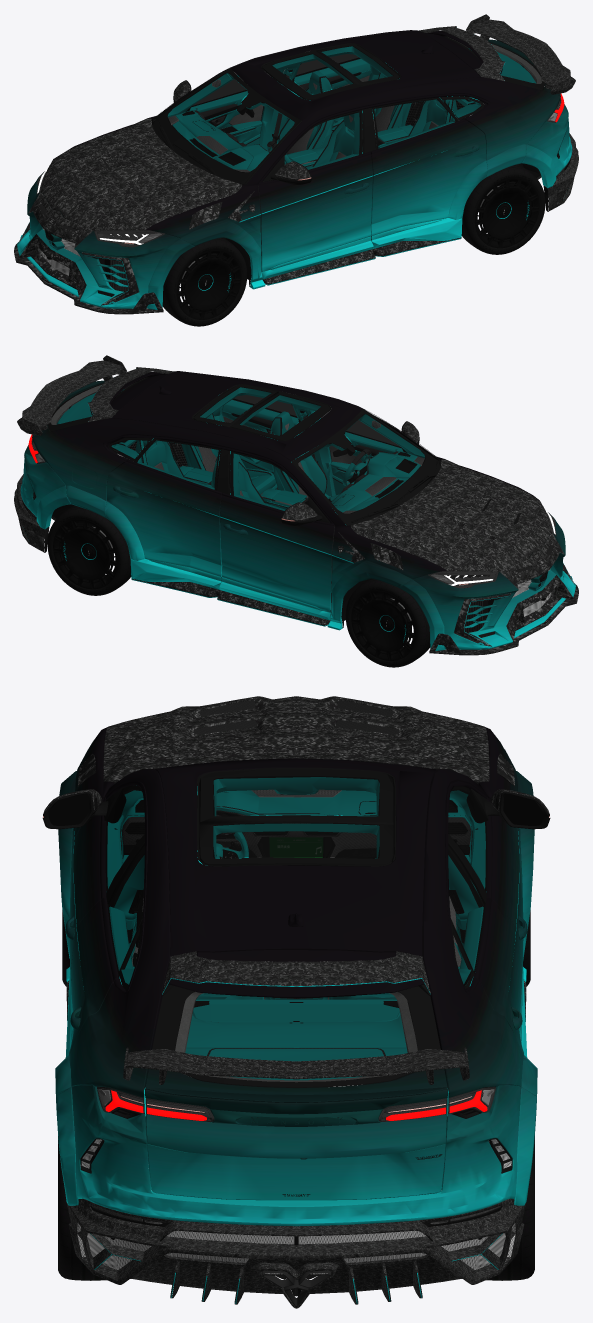
The model's file is urus.glb.
3 renders of one model, top to bottom at view 1: azimuth 30°, elevation 25°; view 2: azimuth 150°, elevation 25°; view 3: azimuth 270°, elevation 25°, orthographic. The views are drawn at different scales.
Parts seen in each view (by area): view 1: body, Bonnet, door_lf, door-rl, bumpfront, windscreen, wheelRL, wheelFL, bump_rear, lf_glass, lr_glass, spoiler (+8 smaller); view 2: body, Bonnet, door_rf, door-rr, bumpfront, windscreen, wheelRR, wheelFR, bump_rear, rf_glass, rr_glass, spoiler (+8 smaller); view 3: body, bump_rear, Trunk, Bonnet, Trunk-Glass, windscreen, door_rf, door_lf, spoiler, second-spoiler, door-rr, door-rl (+8 smaller).
Part boxes in pixels (x1,y1,x2,y2): body: [29, 30, 570, 303]; Bonnet: [41, 118, 242, 230]; door_lf: [258, 152, 375, 285]; door-rl: [371, 119, 487, 256]; bumpfront: [14, 172, 194, 314]; windscreen: [167, 46, 481, 172]; wheelRL: [461, 164, 545, 254]; wheelFL: [162, 237, 247, 326]; bump_rear: [522, 108, 578, 211]; lf_glass: [284, 109, 363, 169]; lr_glass: [372, 97, 458, 149]; spoiler: [466, 14, 575, 94]; body: [22, 371, 563, 644]; Bonnet: [350, 459, 551, 571]; door_rf: [217, 493, 334, 626]; door-rr: [105, 460, 221, 597]; bumpfront: [398, 513, 578, 655]; windscreen: [111, 387, 425, 513]; wheelRR: [47, 505, 131, 595]; wheelFR: [345, 578, 430, 667]; bump_rear: [14, 449, 70, 552]; rf_glass: [229, 451, 308, 510]; rr_glass: [134, 438, 220, 490]; spoiler: [17, 355, 126, 435]; body: [55, 727, 537, 1306]; bump_rear: [56, 1085, 536, 1308]; Trunk: [145, 949, 447, 1200]; Bonnet: [103, 696, 489, 782]; Trunk-Glass: [174, 991, 417, 1082]; windscreen: [120, 760, 472, 986]; door_rf: [456, 789, 550, 1057]; door_lf: [42, 788, 136, 1057]; spoiler: [123, 1047, 469, 1084]; second-spoiler: [162, 951, 430, 994]; door-rr: [458, 897, 537, 1069]; door-rl: [55, 897, 134, 1068].
Size of the model in its own units: 4.55 by 1.47 by 1.95.
46 materials, 36 textured.
